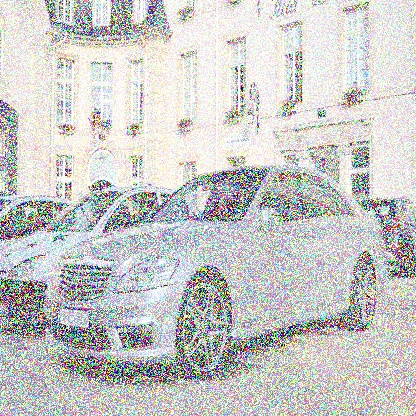Vehicle: (44, 162, 392, 380)
